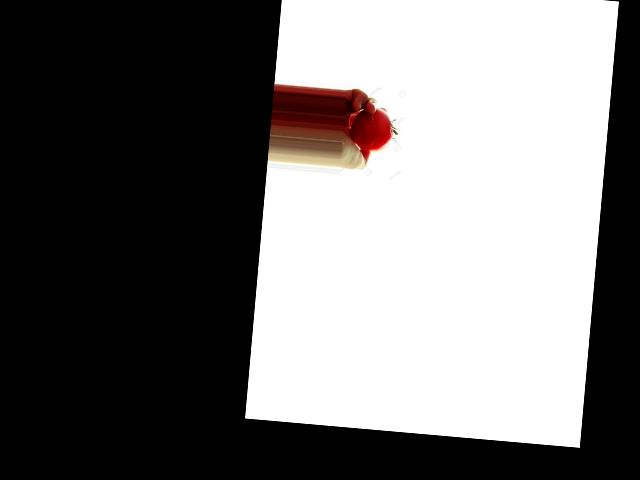tomato: (349, 105, 395, 153)
